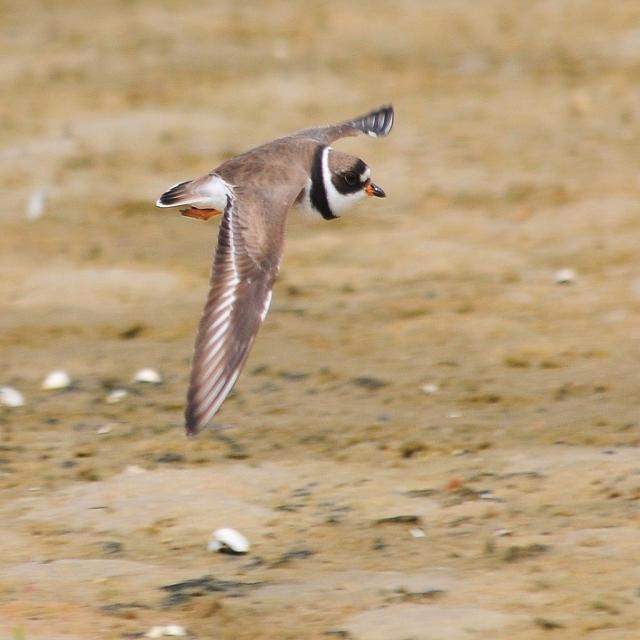bird: (149, 95, 396, 442)
